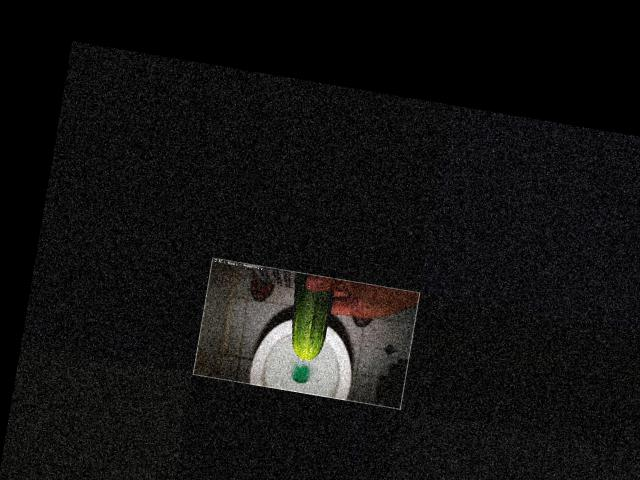cucumber: (282, 270, 335, 361)
